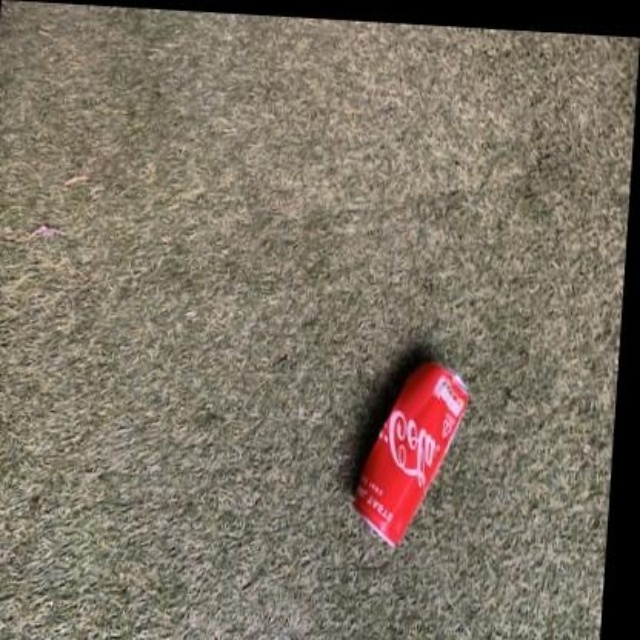trash: (354, 363, 466, 543)
